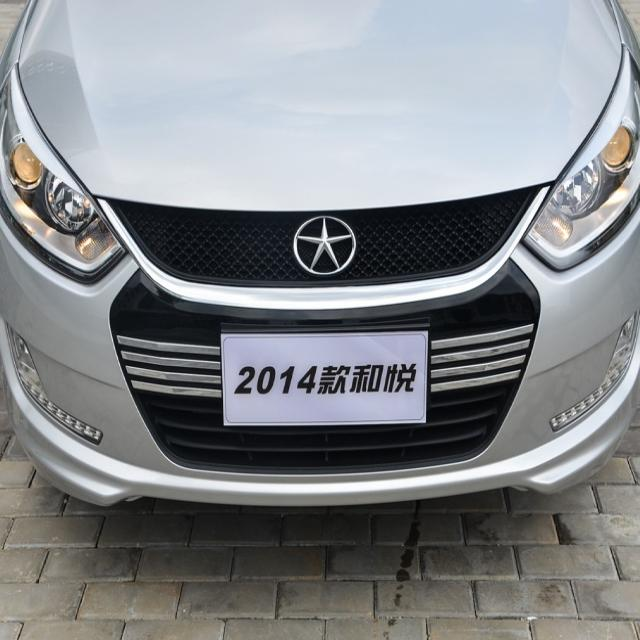front_bumper: (0, 237, 640, 518)
front_left_side_light: (519, 38, 640, 272)
front_right_side_light: (2, 66, 128, 284)
